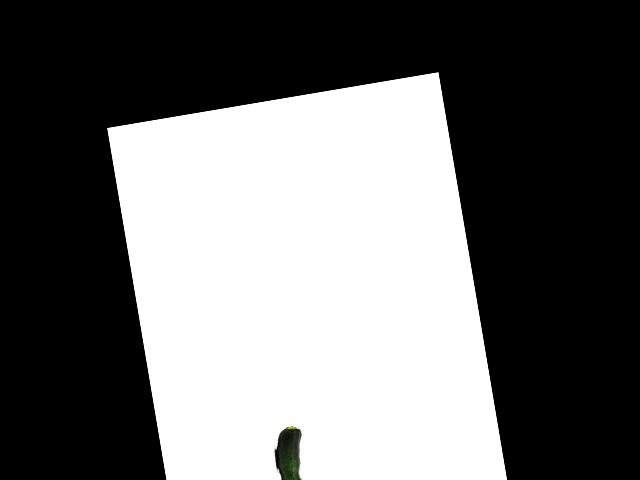cucumber: (270, 424, 311, 480)
